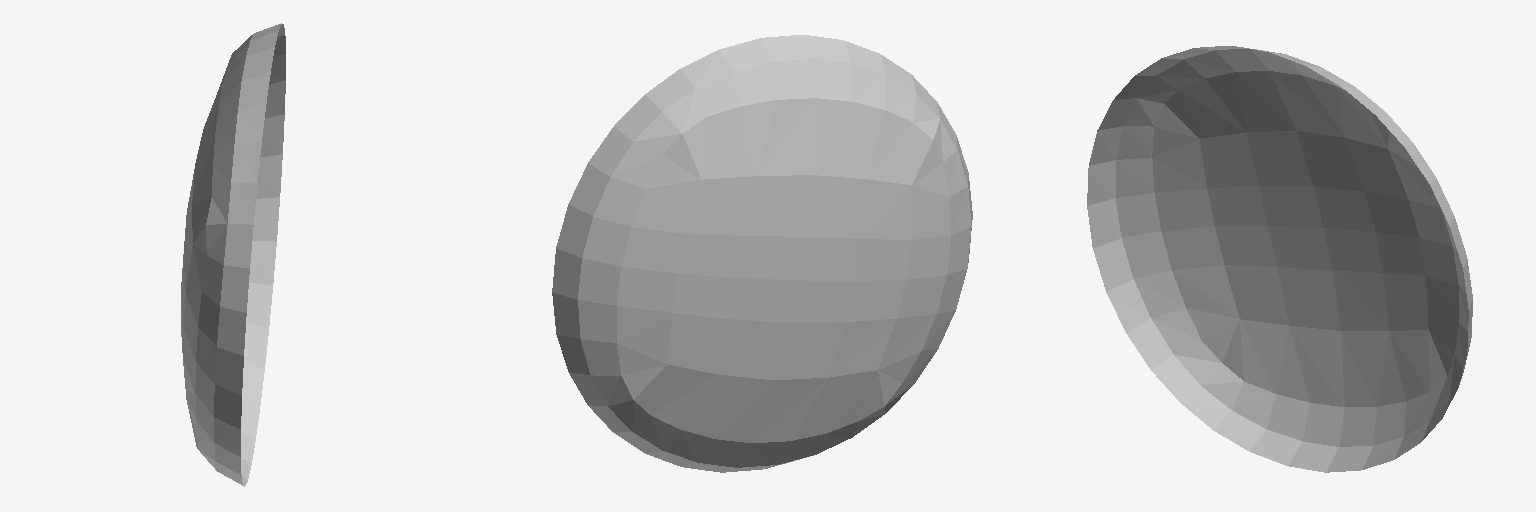
The model's file is vespa_headlight.obj.
The picture shows the model from 3 angles: view 1: azimuth 30°, elevation 25°; view 2: azimuth 150°, elevation 25°; view 3: azimuth 270°, elevation 25°; orthographic projection.
Size of the model in its own units: 7.46 by 12.37 by 10.28.